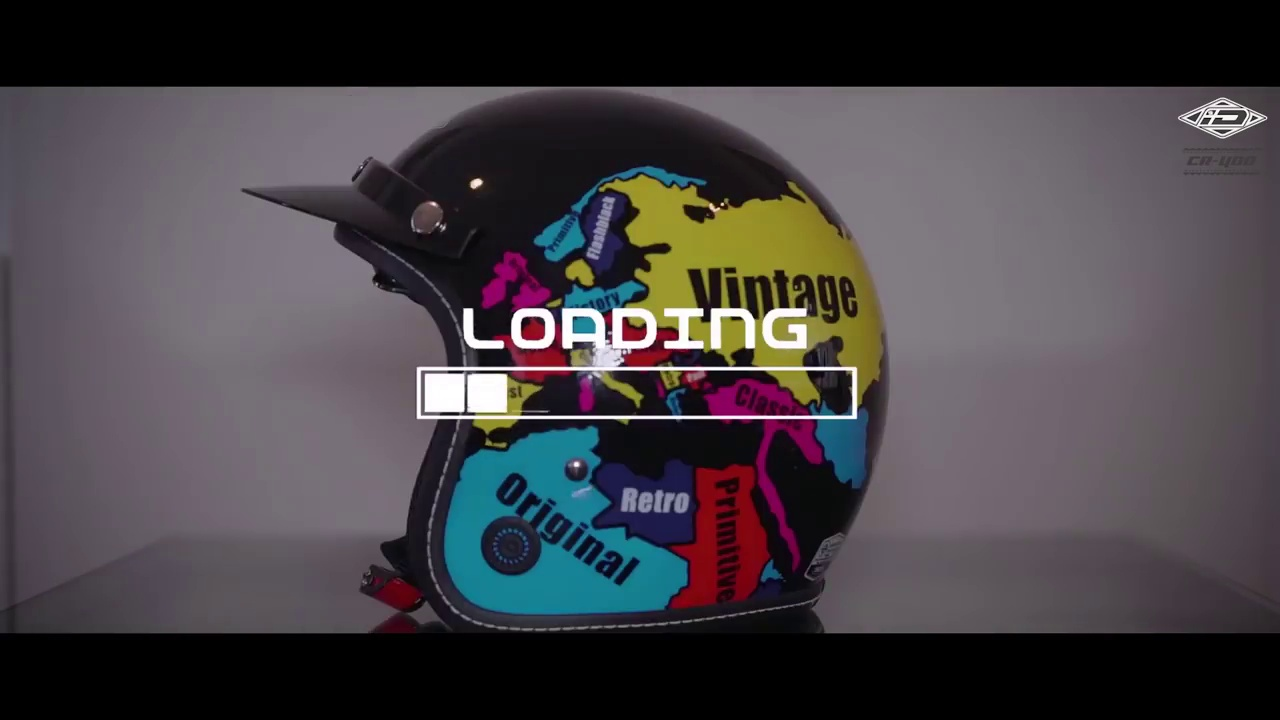helmet: (266, 95, 924, 621)
